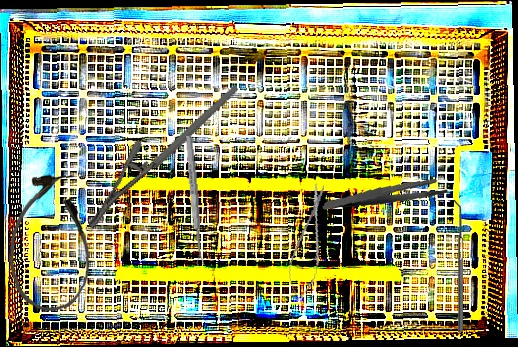Cannula: (7, 172, 94, 313)
Dressing Forceps: (322, 167, 449, 223)
Micro Scissor: (283, 179, 335, 304)
Needle Holder: (61, 85, 266, 230)
Spatula Surgical: (453, 200, 463, 332)
Surgical Spoon: (184, 135, 205, 267)
